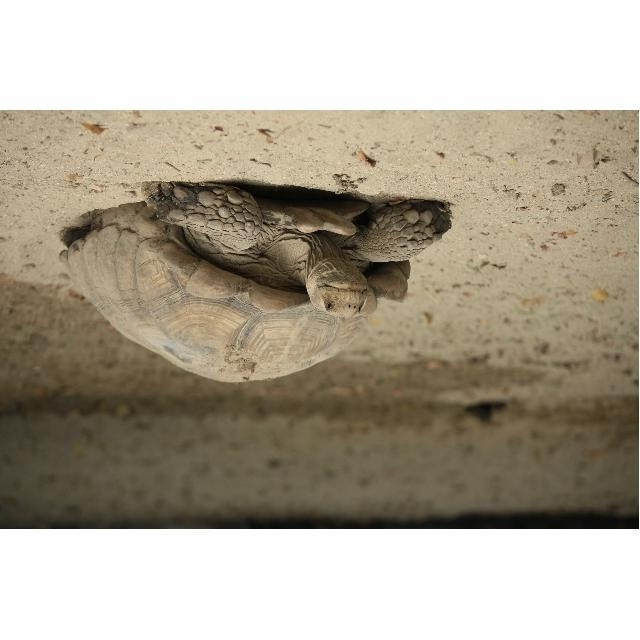turtle: (57, 181, 453, 385)
